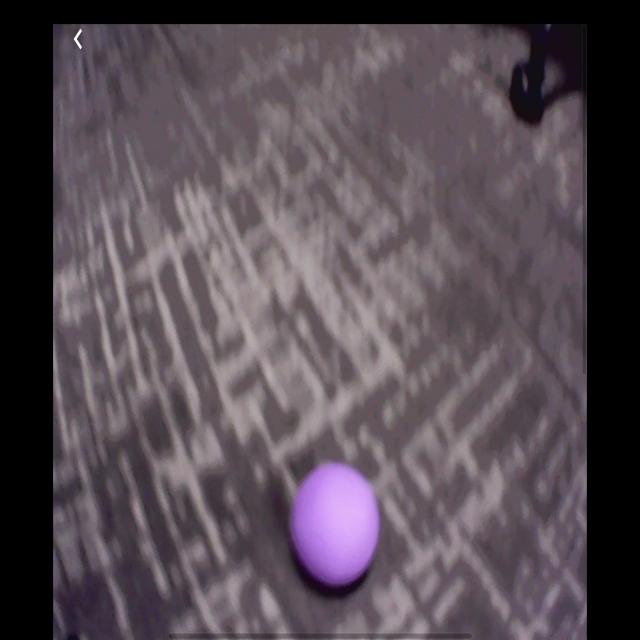ball: (289, 461, 382, 593)
